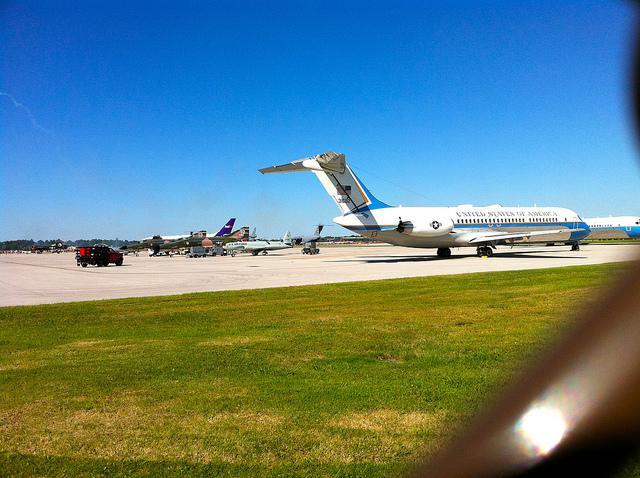Airplane: (257, 153, 592, 261), (160, 218, 243, 247), (223, 231, 294, 258), (582, 215, 640, 241), (119, 239, 183, 257), (250, 228, 258, 242)
